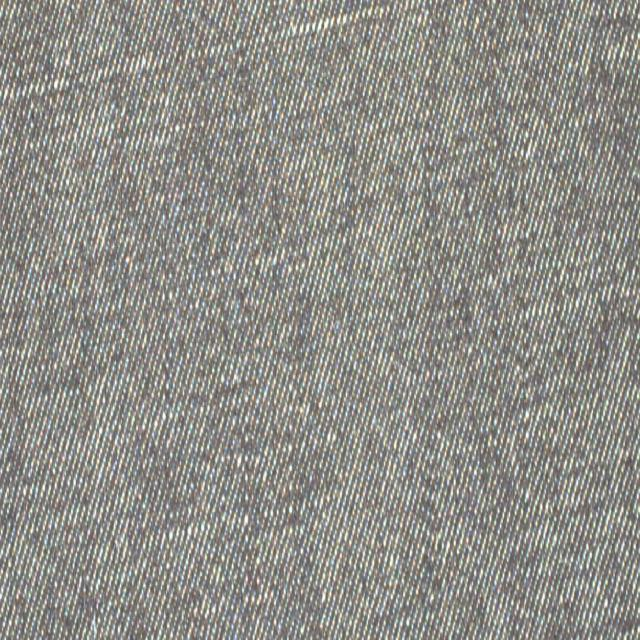Line: (2, 0, 452, 113)
